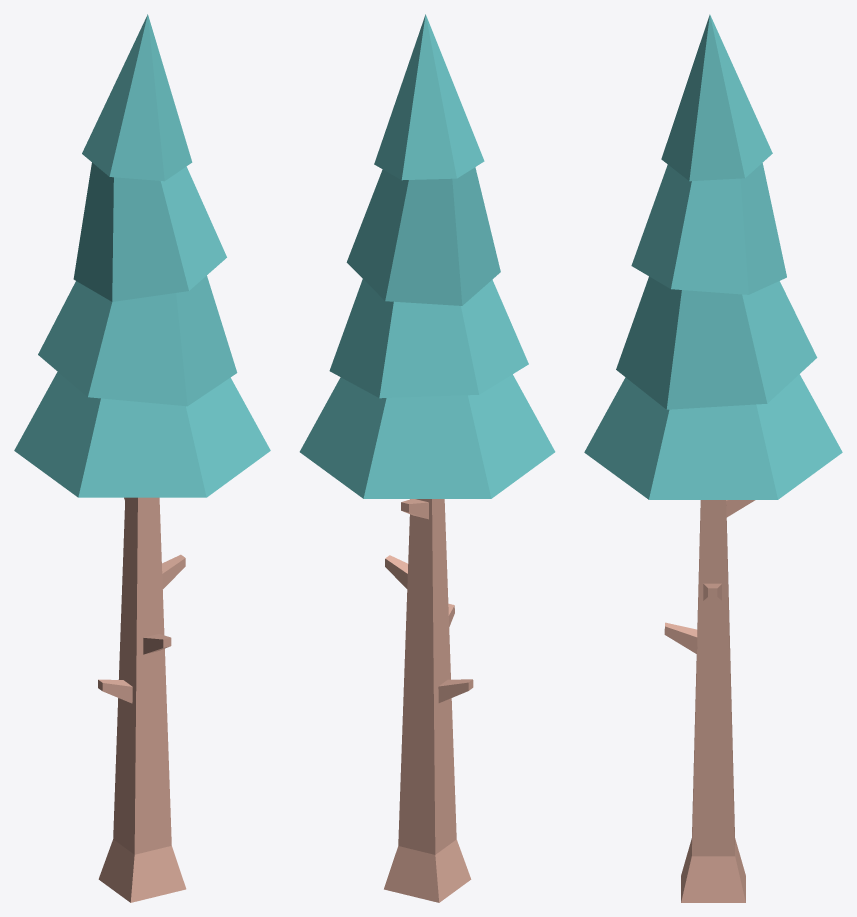
Rendered from bettertallpinetree.fbx.
3 views of the same model, side by side, from view 1: azimuth 30°, elevation 25°; view 2: azimuth 150°, elevation 25°; view 3: azimuth 270°, elevation 25° (orthographic).
Parts seen in each view (by area): view 1: tree_pineTallD_detailed.006, tree_pineTallD_detailed.005, tree_pineTallD_detailed.002; view 2: tree_pineTallD_detailed.006, tree_pineTallD_detailed.005, tree_pineTallD_detailed.002; view 3: tree_pineTallD_detailed.006, tree_pineTallD_detailed.005, tree_pineTallD_detailed.002.
Boxes of the visible parts, x1,y1,x2,y2 form: tree_pineTallD_detailed.006: (14, 14, 270, 672); tree_pineTallD_detailed.005: (98, 733, 186, 902); tree_pineTallD_detailed.002: (98, 654, 168, 775); tree_pineTallD_detailed.006: (299, 14, 555, 672); tree_pineTallD_detailed.005: (384, 736, 471, 902); tree_pineTallD_detailed.002: (402, 650, 473, 774); tree_pineTallD_detailed.006: (584, 14, 842, 674); tree_pineTallD_detailed.005: (681, 742, 745, 902); tree_pineTallD_detailed.002: (694, 657, 732, 778).
Size of the model in its own units: 48.04 by 208 by 55.47.
